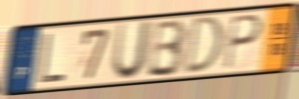7: (81, 26, 110, 83)
B: (145, 17, 189, 79)
D: (182, 14, 225, 78)
L: (36, 31, 67, 85)
P: (223, 13, 264, 72)
U: (109, 19, 155, 83)
